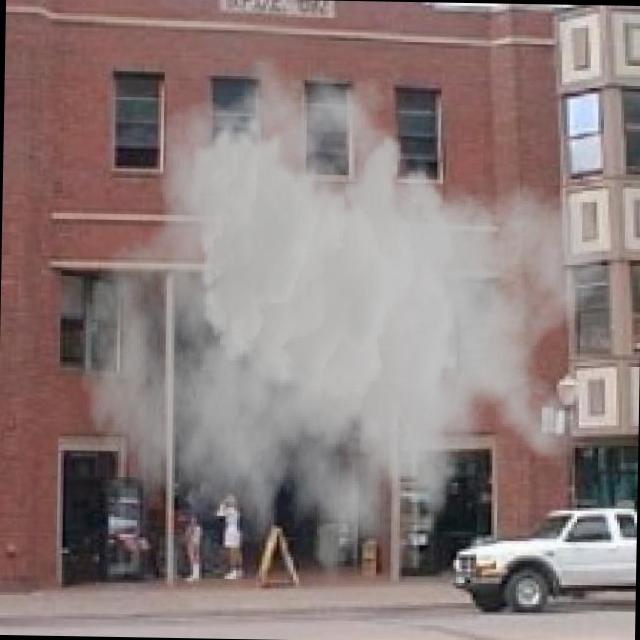Smoke: (75, 50, 611, 614)
